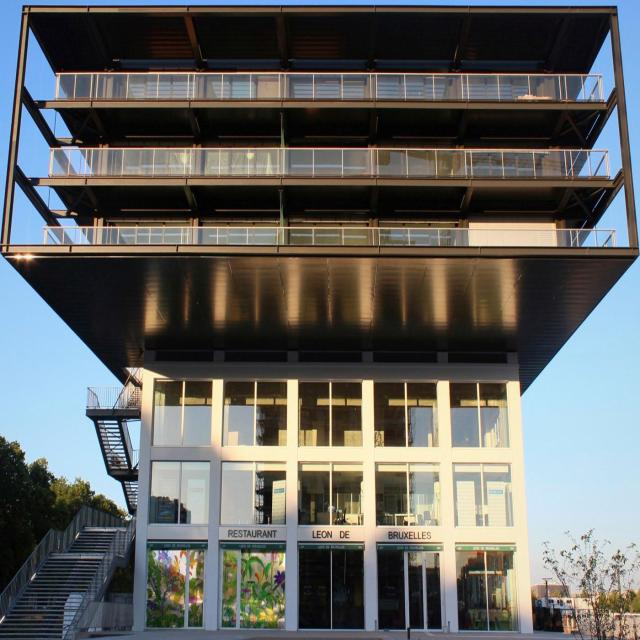door: (405, 547, 442, 632)
railing: (56, 72, 604, 104), (49, 148, 611, 179), (42, 228, 618, 249)
window: (378, 545, 441, 630), (301, 544, 364, 629), (224, 545, 284, 629), (143, 543, 201, 629), (457, 544, 514, 631), (224, 378, 286, 447), (299, 381, 361, 449), (154, 379, 213, 449), (299, 463, 365, 525), (374, 383, 438, 445), (375, 464, 438, 526), (220, 464, 282, 524), (451, 384, 506, 447), (150, 462, 206, 523), (454, 463, 509, 525)
